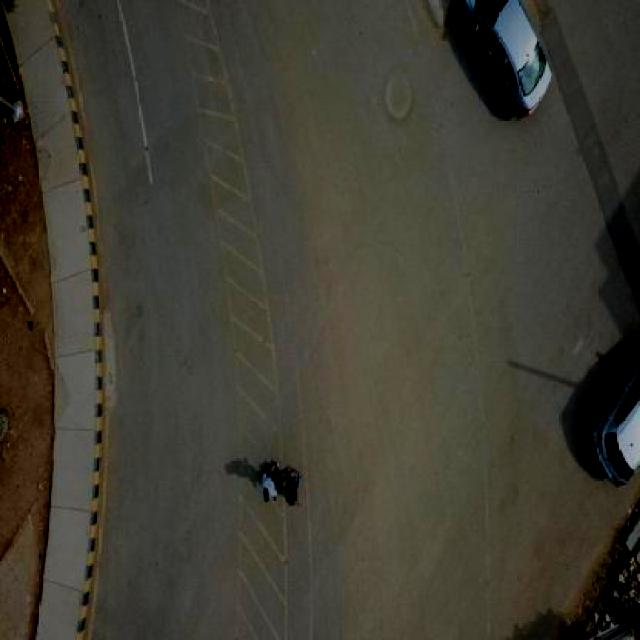Person: (262, 462, 280, 504), (285, 468, 303, 508)
